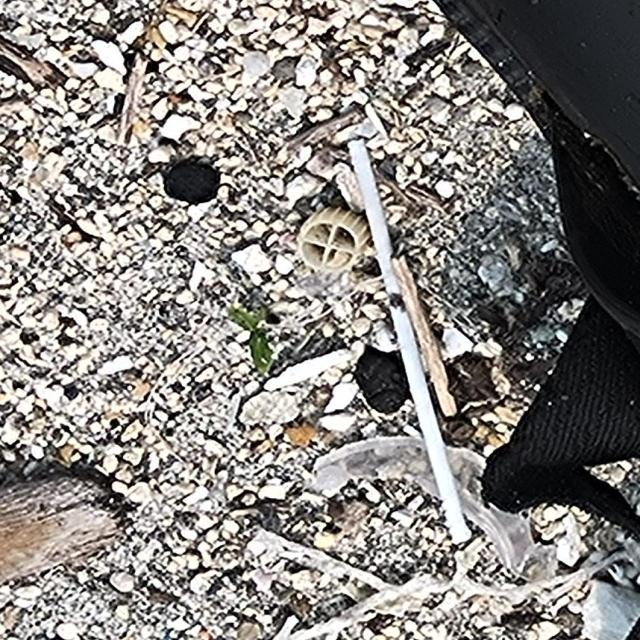plastic_waste: (349, 138, 477, 547)
